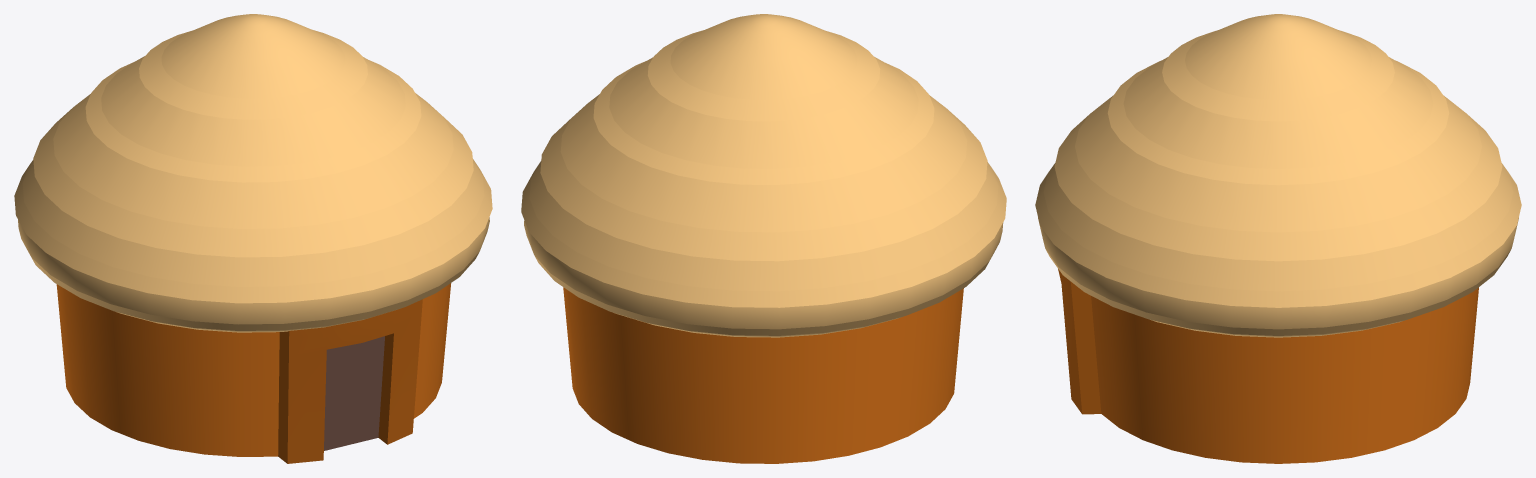
The model's file is hut.fbx.
3 renders of one model, left to right at view 1: azimuth 30°, elevation 25°; view 2: azimuth 150°, elevation 25°; view 3: azimuth 270°, elevation 25°, orthographic.
Parts seen in each view (by area): view 1: Circle.2346; view 2: Circle.2346; view 3: Circle.2346.
Part boxes in pixels (x1=…): Circle.2346: x1=14, y1=14, x2=492, y2=463; Circle.2346: x1=521, y1=14, x2=1006, y2=463; Circle.2346: x1=1035, y1=14, x2=1521, y2=463.
Size of the model in its own units: 228 by 190 by 228.
1 material, 1 textured.
